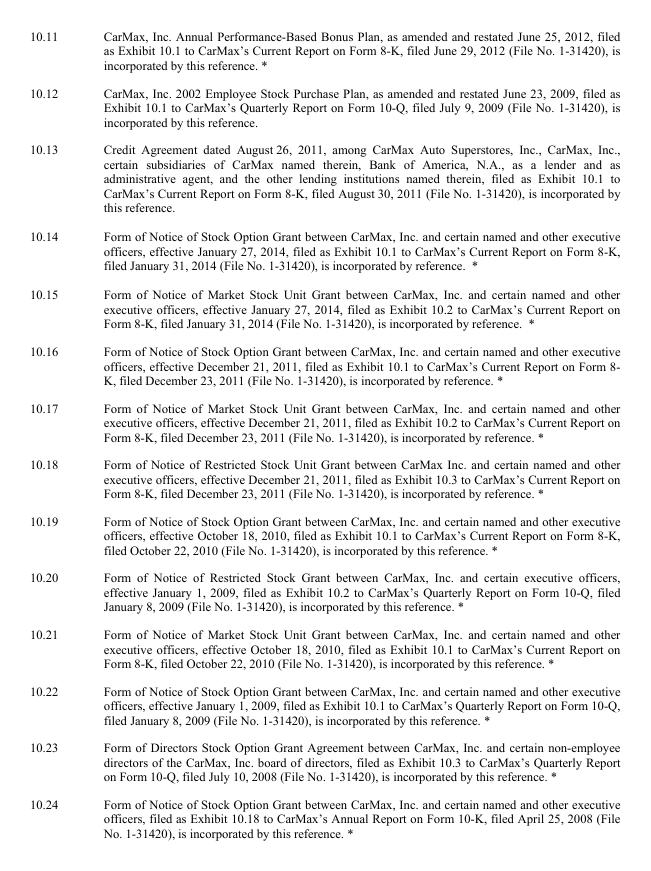table: (28, 28, 619, 839)
table column: (80, 28, 619, 839), (28, 28, 80, 839)
table row: (28, 135, 619, 221), (28, 221, 619, 279), (28, 78, 619, 135), (28, 279, 619, 336), (28, 336, 619, 393), (28, 393, 619, 450), (28, 506, 619, 563), (28, 563, 619, 620), (28, 676, 619, 733), (28, 450, 619, 506), (28, 620, 619, 676), (28, 733, 619, 789), (28, 28, 619, 78), (28, 789, 619, 839)
